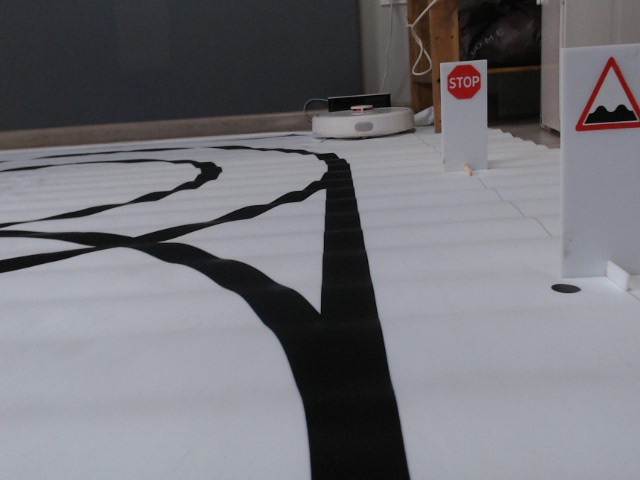Nerov: (574, 55, 640, 134)
